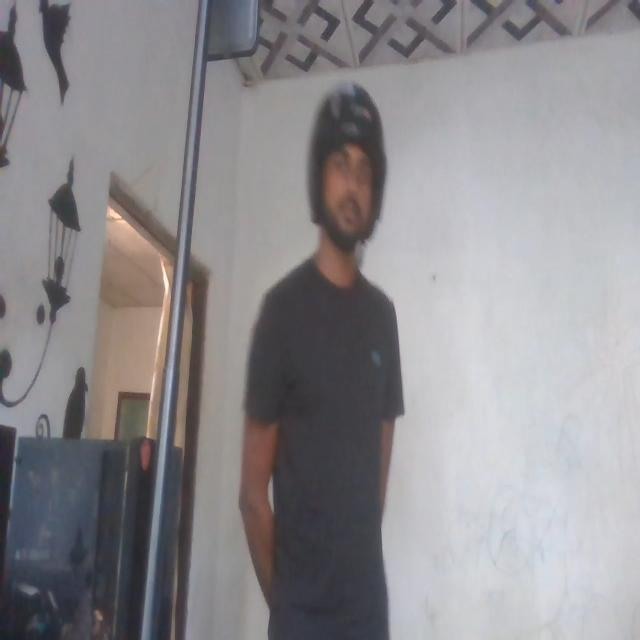Helmet_Wearer: (305, 83, 383, 289)
Person: (241, 74, 408, 640)
